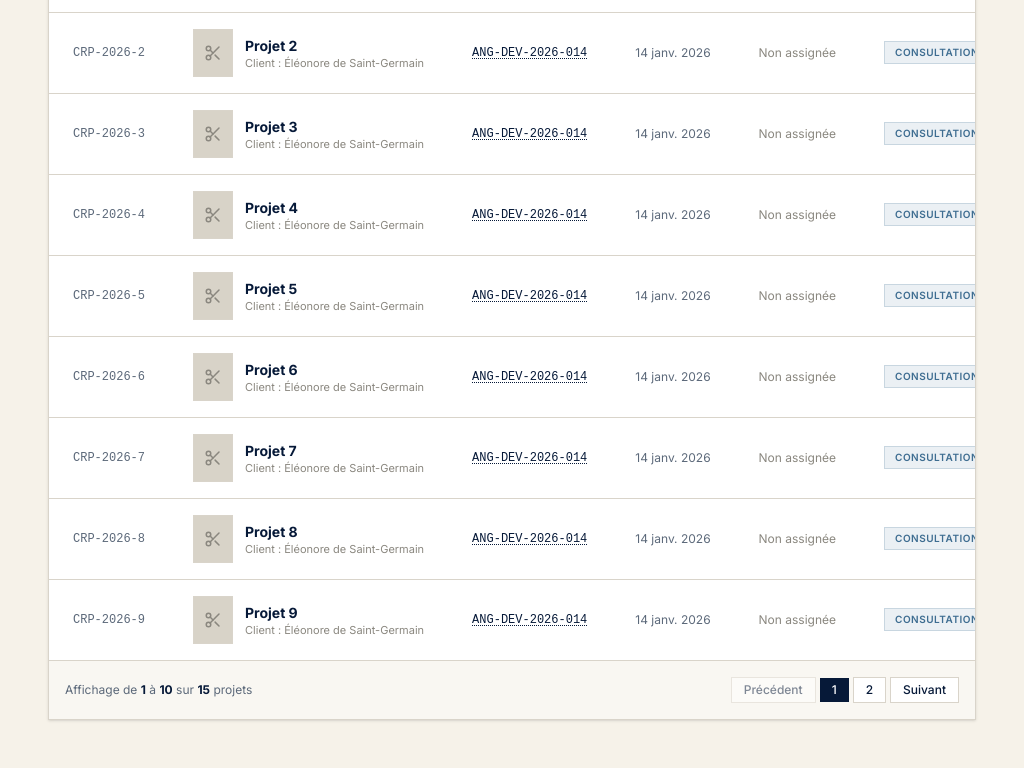
Test case: AdminCreationProjectsPage › navigates between pages when multiple pages exist
The image size is (1024, 768).
(page scrolled)
Expected: the text "Projet 11" is not shown
Click the button "Suivant". click: (925,690)
box: [890,677,959,703]
(page scrolled)
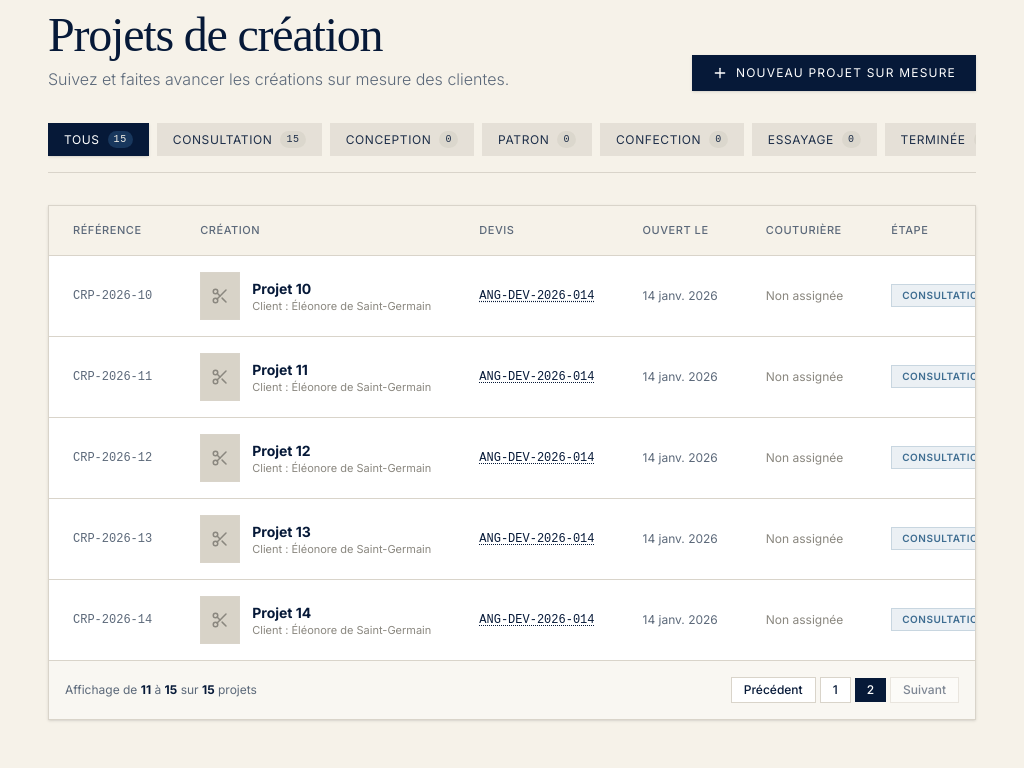
Result: the link "Projet 11" is shown at [252,360,308,378]
Click the button "Précédent". click: (773,690)
box: [731,677,816,703]
(page scrolled)
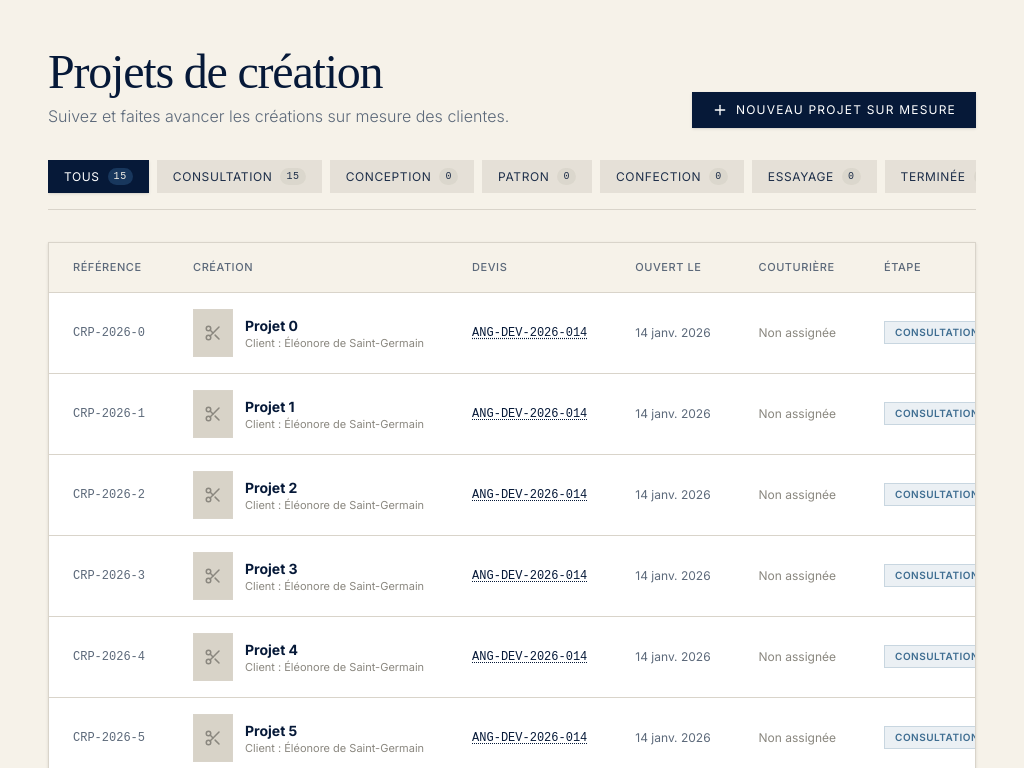
Result: the link "Projet 0" is shown at [245,316,298,334]
